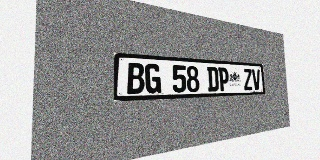5: (172, 65, 186, 93)
8: (186, 65, 199, 92)
B: (127, 62, 145, 94)
D: (207, 67, 219, 91)
G: (145, 63, 161, 94)
P: (218, 67, 229, 91)
V: (252, 69, 261, 90)
Z: (243, 68, 253, 90)
